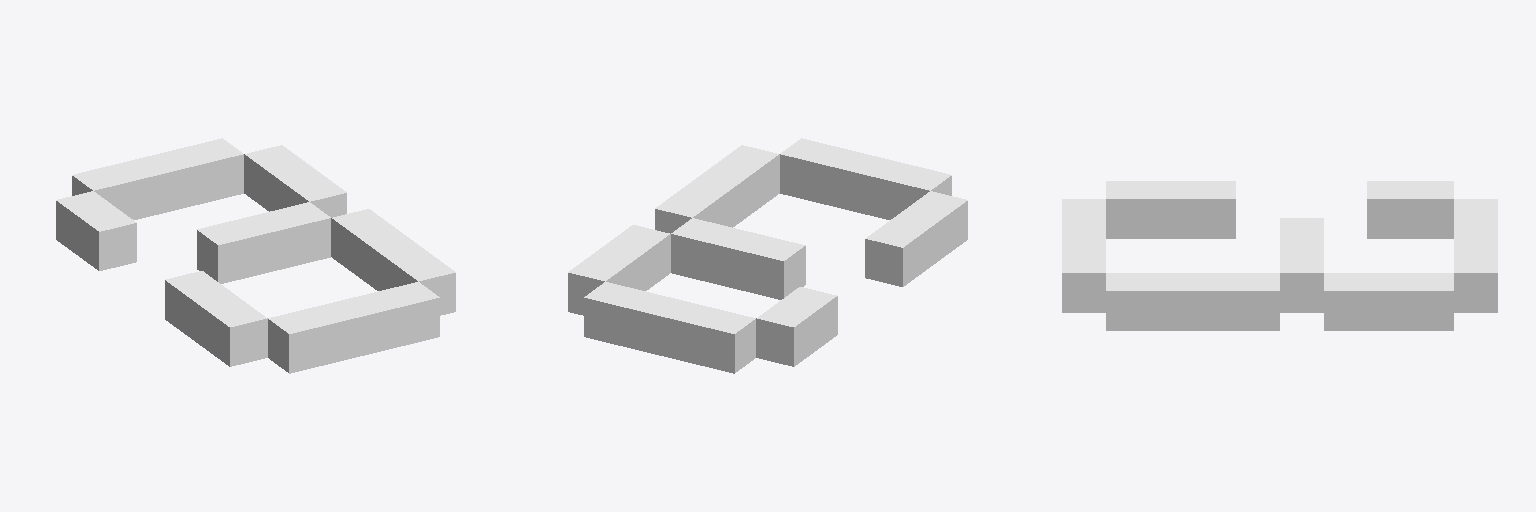
File: numeric3.obj
The picture shows the model from 3 angles: view 1: azimuth 30°, elevation 25°; view 2: azimuth 150°, elevation 25°; view 3: azimuth 270°, elevation 25°; orthographic projection.
Parts seen in each view (by area): view 1: object 1; view 2: object 1; view 3: object 1.
Part boxes in pixels (x1,y1,x2,y2): object 1: (56, 138, 455, 373); object 1: (568, 138, 967, 373); object 1: (1062, 181, 1497, 330).
Size of the model in its own units: 0.6 by 0.1 by 1.